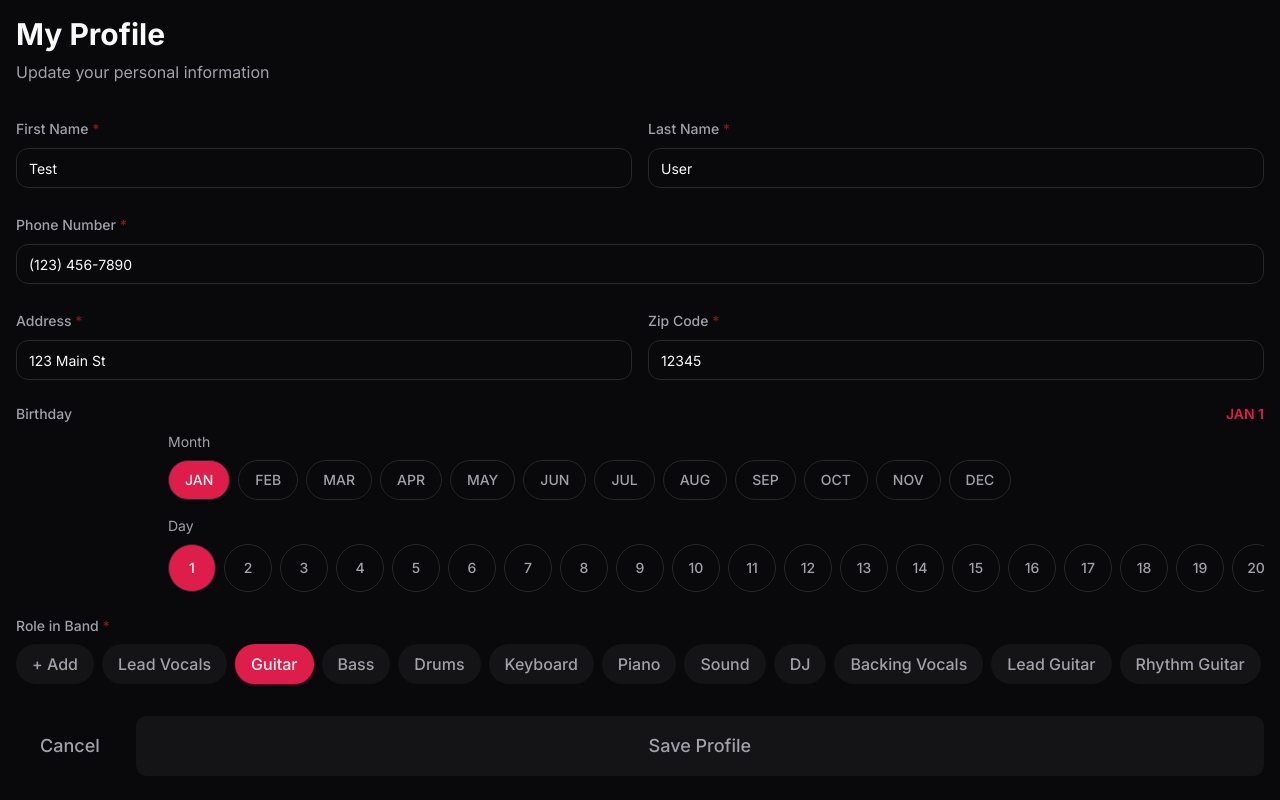
Test: ProfileForm integration › opens dialog for adding custom role
The width and height of the screenshot is (1280, 800).
// Find and click the + Add button
Click the button "+ Add".
click(55, 664)  # box 16,644 -> 94,684
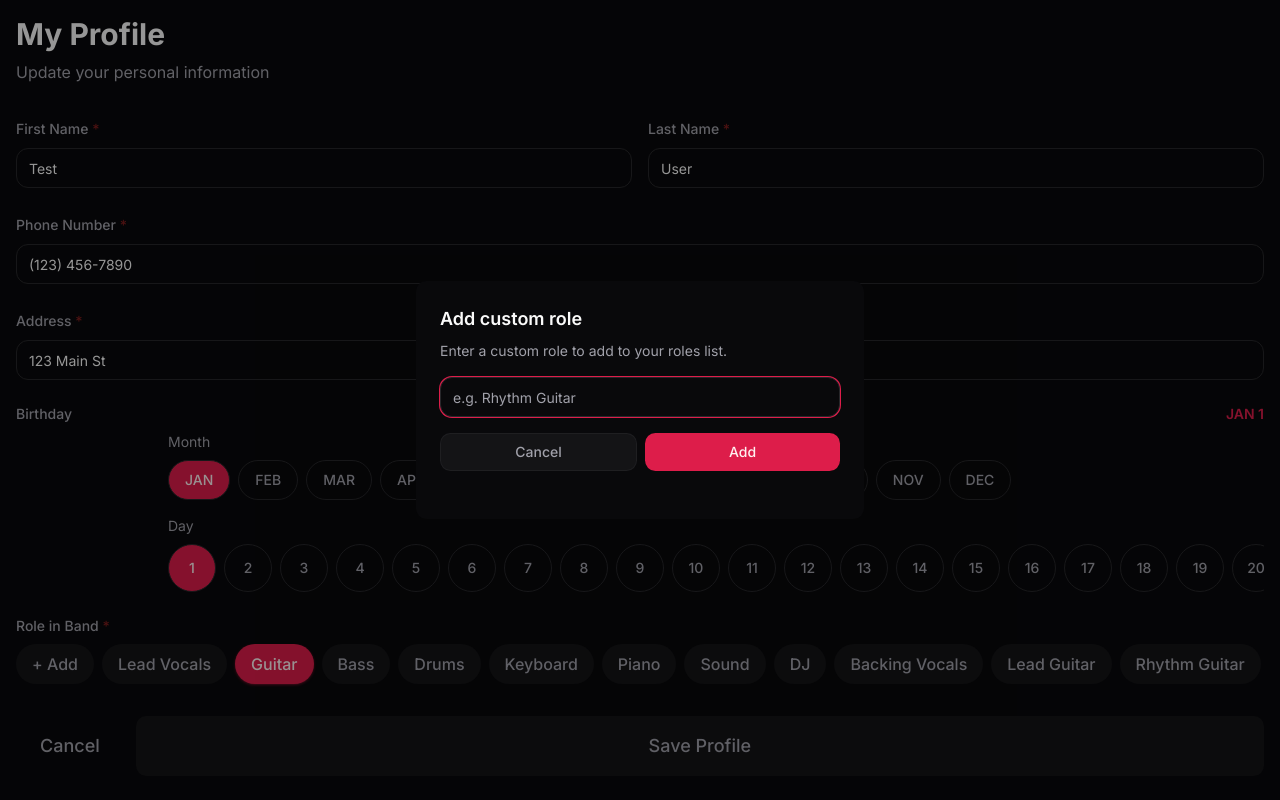
Expected: the field with placeholder "e.g. Rhythm Guitar" is shown, 440,377 -> 840,417
Expected: the button "Add" is shown, 645,433 -> 840,471
Expected: the button "Cancel" is shown, 440,433 -> 637,471
